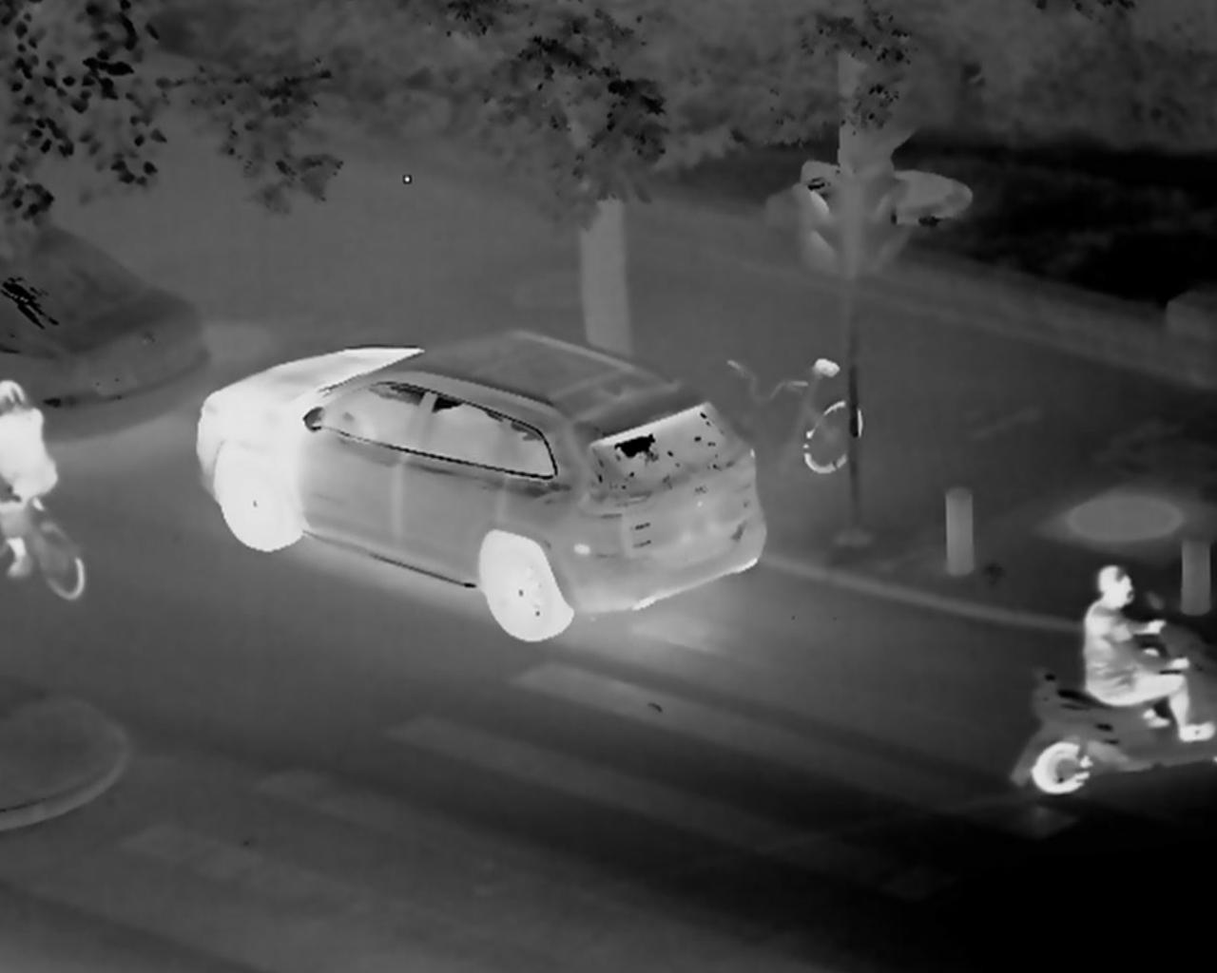person: (1077, 563, 1216, 743)
